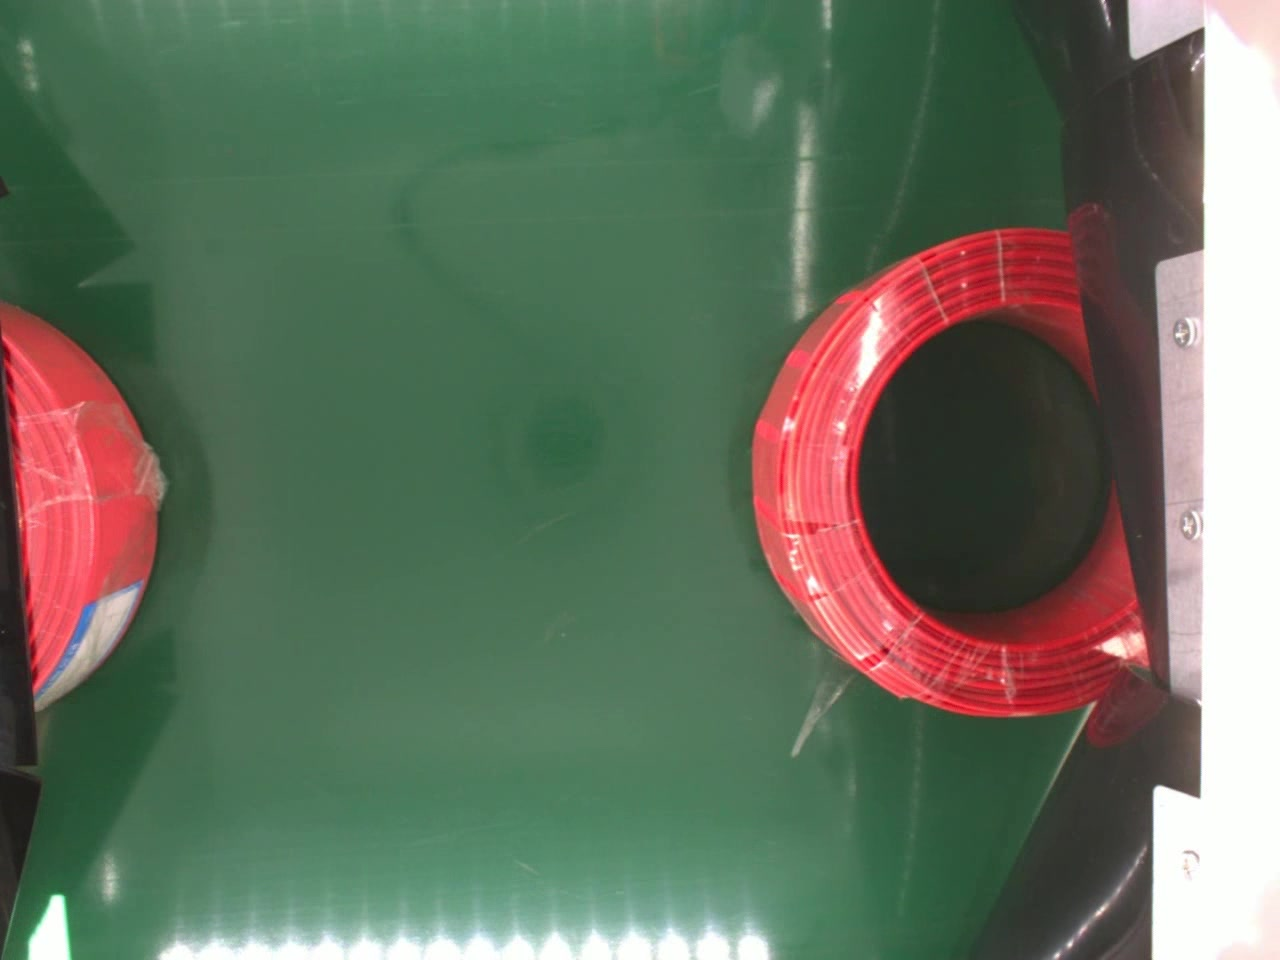red: (742, 224, 1155, 717), (0, 295, 154, 713)
